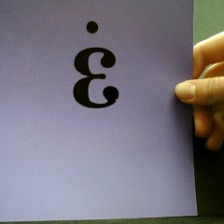violet3: (68, 15, 124, 114)
